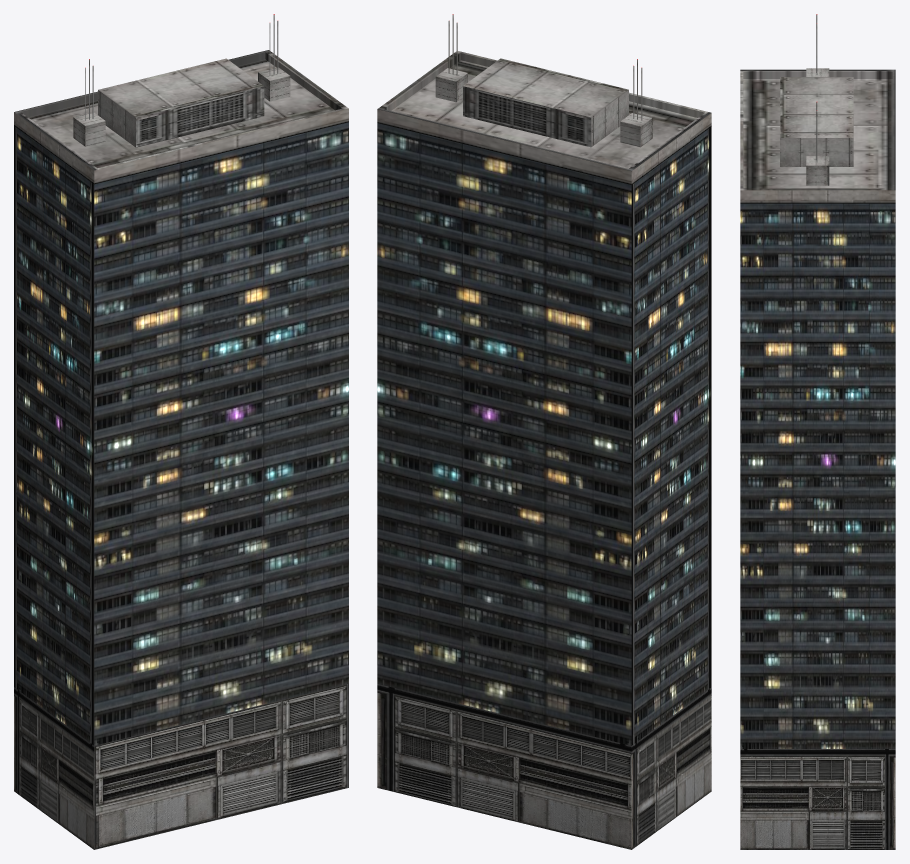
The model's file is 2026-commercial-building-13.glb.
3 views of the same model, side by side, from view 1: azimuth 30°, elevation 25°; view 2: azimuth 150°, elevation 25°; view 3: azimuth 270°, elevation 25° (orthographic). The views are drawn at different scales.
Parts seen in each view (by area): view 1: 2026-commercial-building-13; view 2: 2026-commercial-building-13; view 3: 2026-commercial-building-13.
Part boxes in pixels (<box>): 2026-commercial-building-13: <box>14,14,348,849</box>; 2026-commercial-building-13: <box>377,14,711,849</box>; 2026-commercial-building-13: <box>740,14,895,849</box>.
Bounding box in the file's own units: 52.15 × 147 × 28.39.
Materials: 2 (1 with a texture image).
